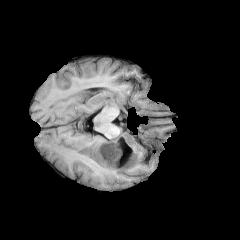glioma: (92, 135, 139, 172)
